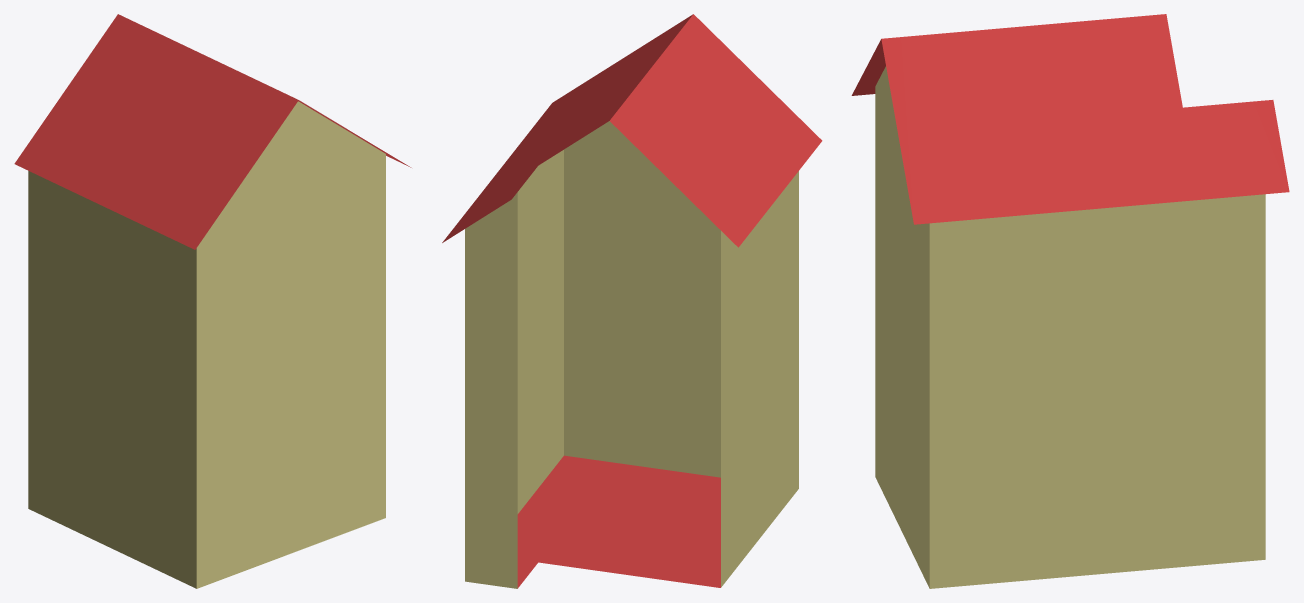
3 renders of one model, left to right at view 1: azimuth 30°, elevation 25°; view 2: azimuth 150°, elevation 25°; view 3: azimuth 270°, elevation 25°, orthographic. The views are drawn at different scales.
Bounding box in the file's own units: 4.5 × 5.42 × 6.73.
